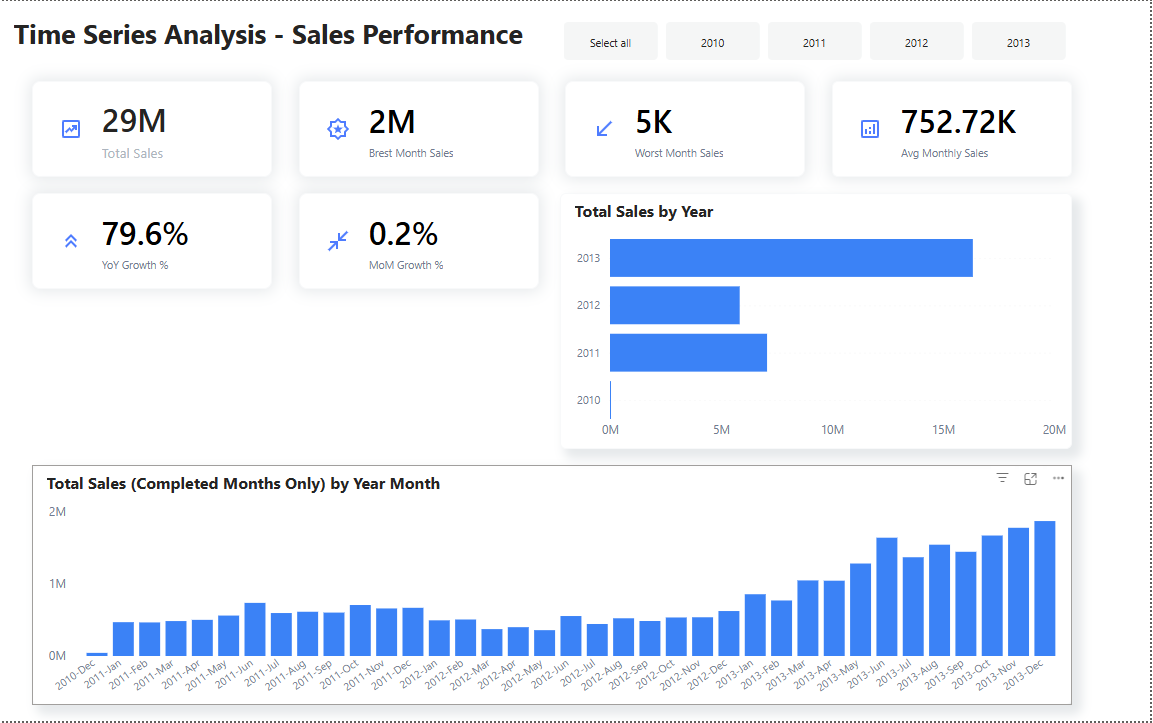

The page's visual inventory and layout, read from the dashboard file:
{"tool":"powerbi","page":{"name":"Time Analysis","canvas":[1150,720],"ordinal":1},"visuals":[{"type":"textbox","box":[0,0,576,64],"z":0},{"type":"clusteredBarChart","title":"Total Sales by Year","fields":{"Y":["Measure.Total Sales"],"Category":["gold fact_sales.Year"]},"box":[560,192,512,256],"z":1000},{"type":"advancedSlicerVisual","title":"Select Year","fields":{"Values":["gold fact_sales.Year"]},"box":[544,16,544,48],"z":2000},{"type":"cardVisual","fields":{"Data":["Measure.Total Sales"]},"box":[32,80,240,96],"z":3000},{"type":"cardVisual","fields":{"Data":["Measure.Highest Month Sales"]},"box":[298.7,80,240,96],"z":4000},{"type":"cardVisual","fields":{"Data":["Measure.Lowest Month Sales"]},"box":[565.3,80,240,96],"z":5000},{"type":"cardVisual","fields":{"Data":["Measure.Avg Monthly Sales"]},"box":[832,80,240,96],"z":6000},{"type":"cardVisual","fields":{"Data":["Measure.YoY Growth %"]},"box":[32,192,240,96],"z":7000},{"type":"cardVisual","fields":{"Data":["Measure.MoM Growth %"]},"box":[298.7,192,240,96],"z":8000},{"type":"clusteredColumnChart","fields":{"Category":["gold fact_sales.Year Month"],"Y":["Measure.Total Sales (Completed Months Only)"]},"box":[32,464,1040,240],"z":9000}]}

Visuals, with their boxes in screenshot pixels (x1, y1, x2, y2), scaled from the page's 1150x720 canvas onto the 1153x723 screenshot:
textbox: bbox=[0, 0, 578, 64]
"Total Sales by Year" clusteredBarChart: bbox=[561, 193, 1075, 450]
"Select Year" advancedSlicerVisual: bbox=[545, 16, 1091, 64]
cardVisual - Measure.Total Sales: bbox=[32, 80, 273, 177]
cardVisual - Measure.Highest Month Sales: bbox=[299, 80, 540, 177]
cardVisual - Measure.Lowest Month Sales: bbox=[567, 80, 807, 177]
cardVisual - Measure.Avg Monthly Sales: bbox=[834, 80, 1075, 177]
cardVisual - Measure.YoY Growth %: bbox=[32, 193, 273, 289]
cardVisual - Measure.MoM Growth %: bbox=[299, 193, 540, 289]
clusteredColumnChart - gold fact_sales.Year Month x Measure.Total Sales (Completed Months Only): bbox=[32, 466, 1075, 707]
